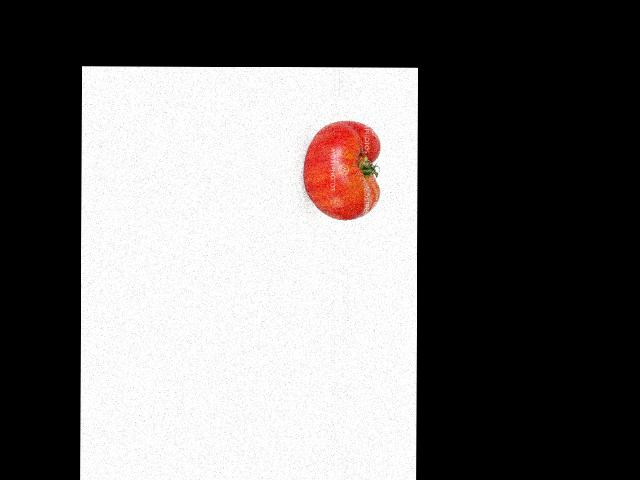tomato: (303, 121, 380, 220)
